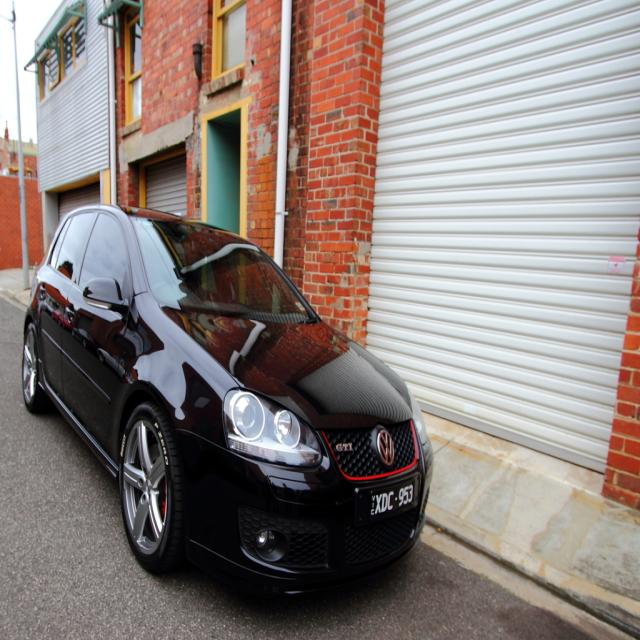car: (19, 200, 435, 610)
